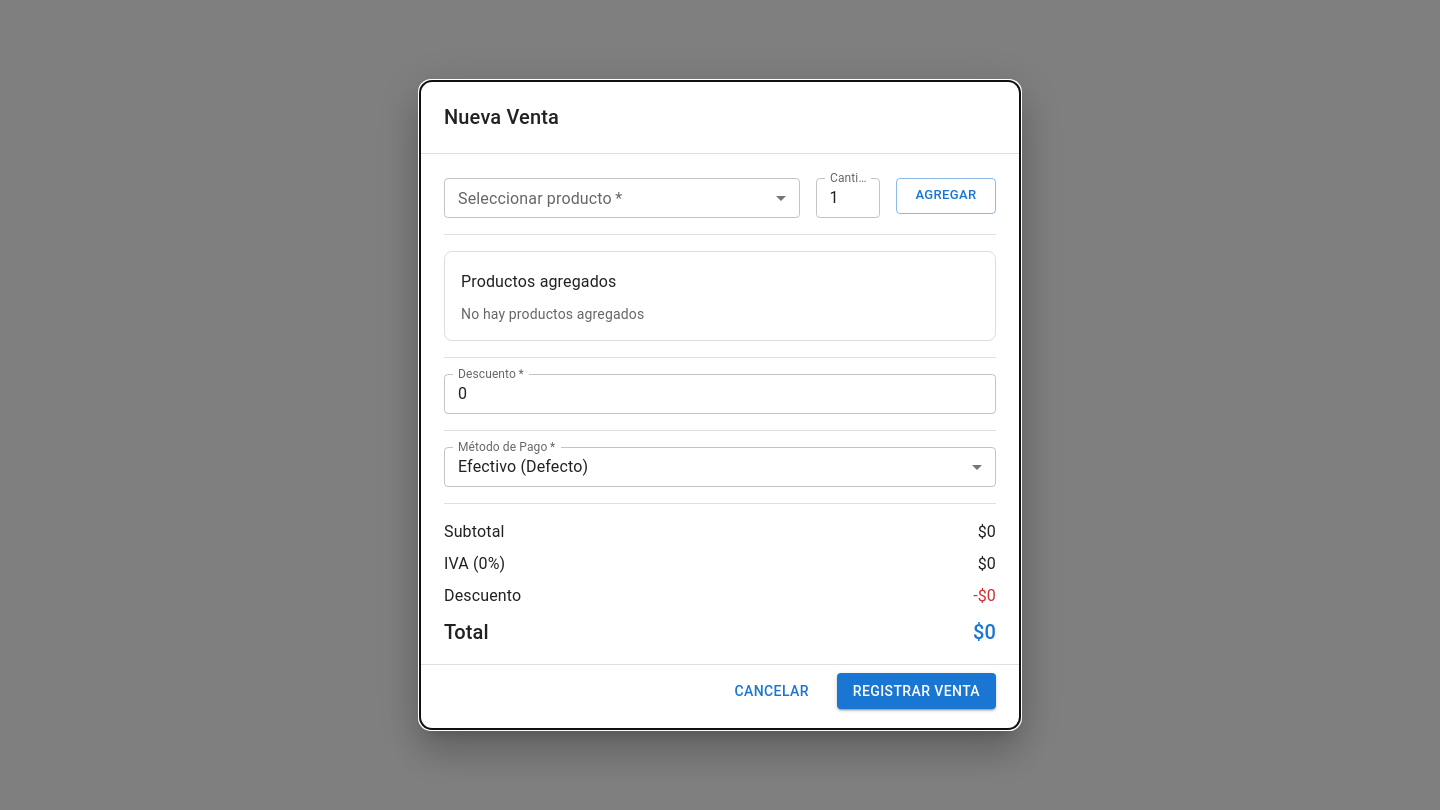
SaleModal › no registra si no hay productos agregados
The image size is (1440, 810).
Click the button "Registrar Venta" at (916, 691), box left=837, top=673, right=996, bottom=709
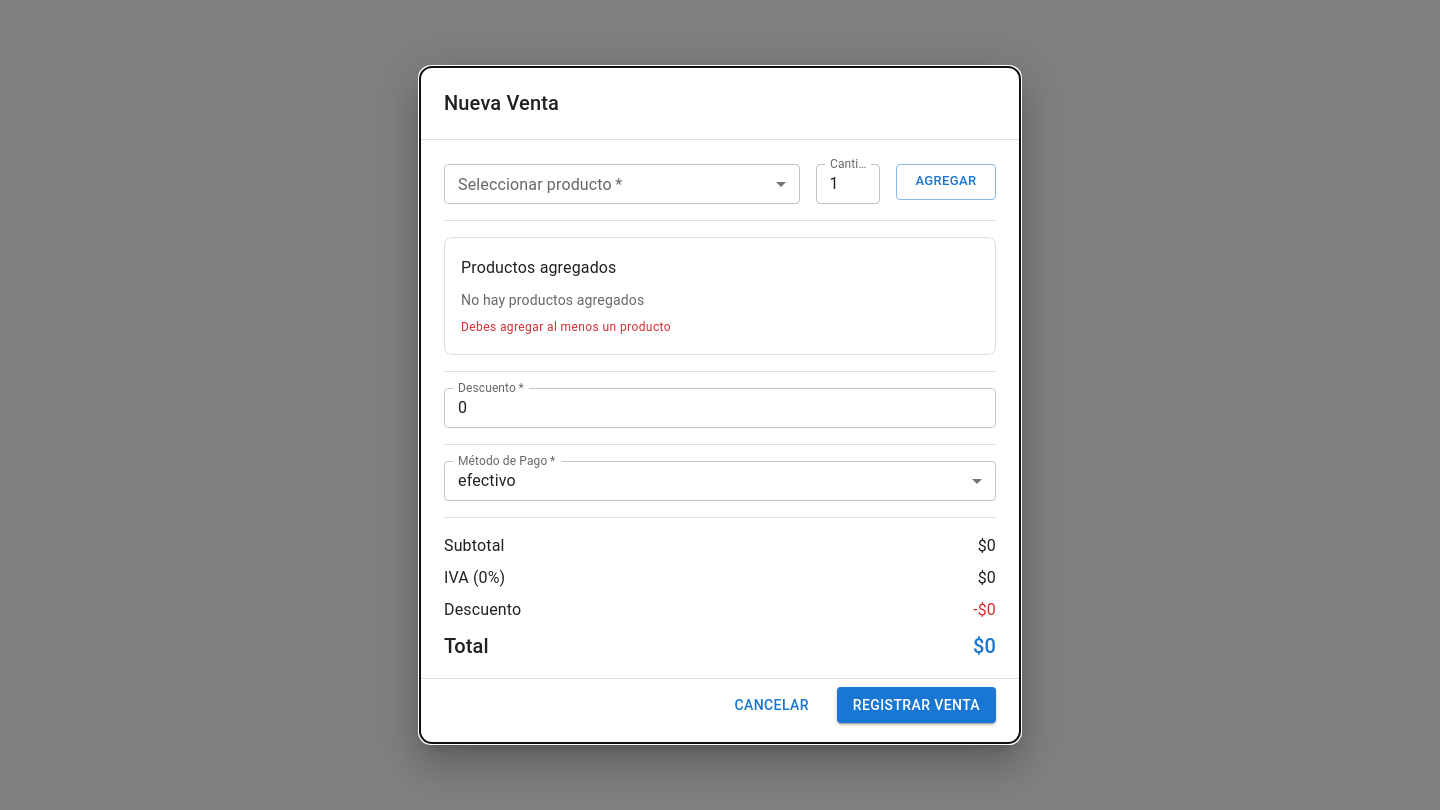
Now the text "Debes agregar al menos un producto" is shown, box left=461, top=320, right=671, bottom=334
